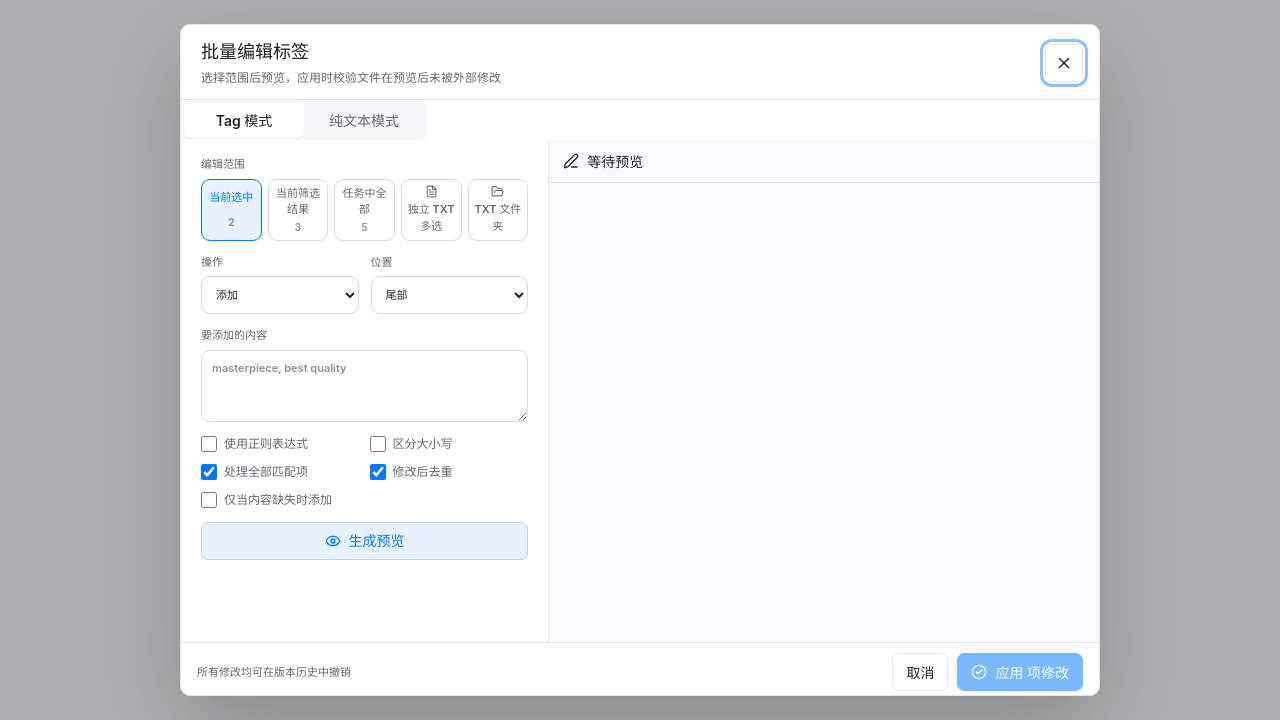
it: BatchEditDialog › highlights the changed segment in previews with colored marks
In the text box labelled "要添加的内容": (365, 386) [201,350,528,422], type "smile"
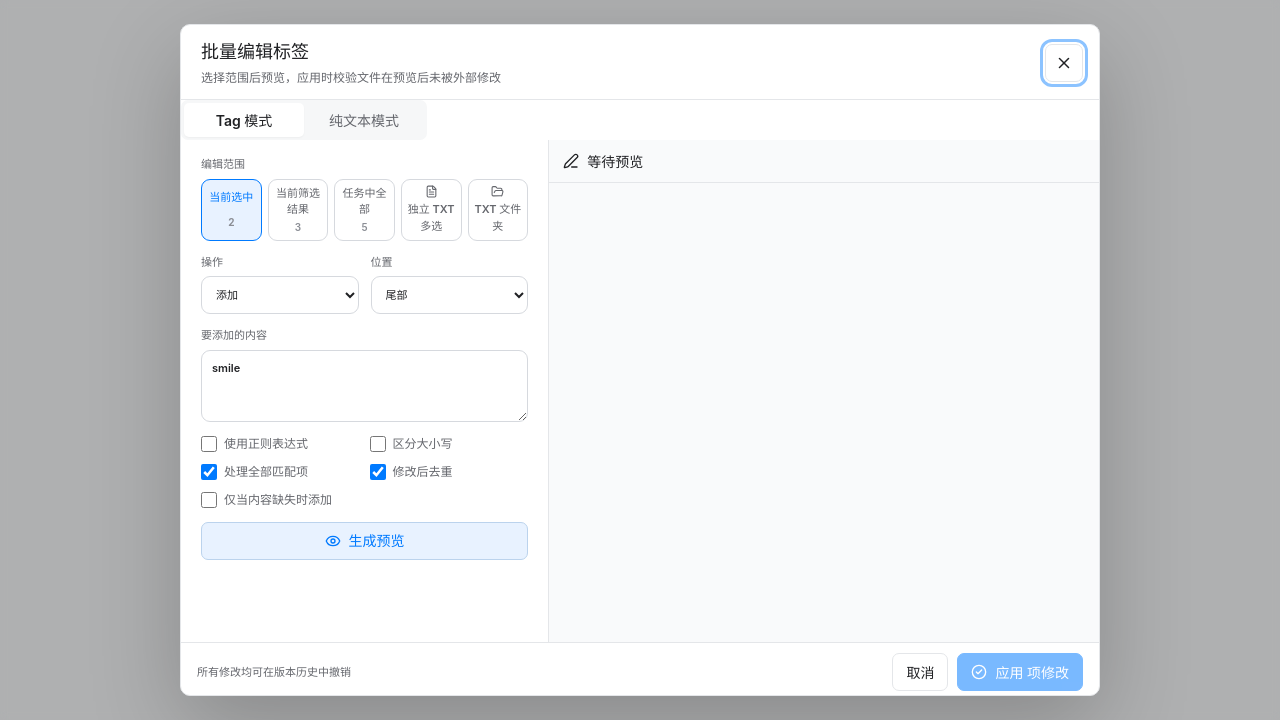
Click the button "生成预览": (365, 540) [201,522,528,560]
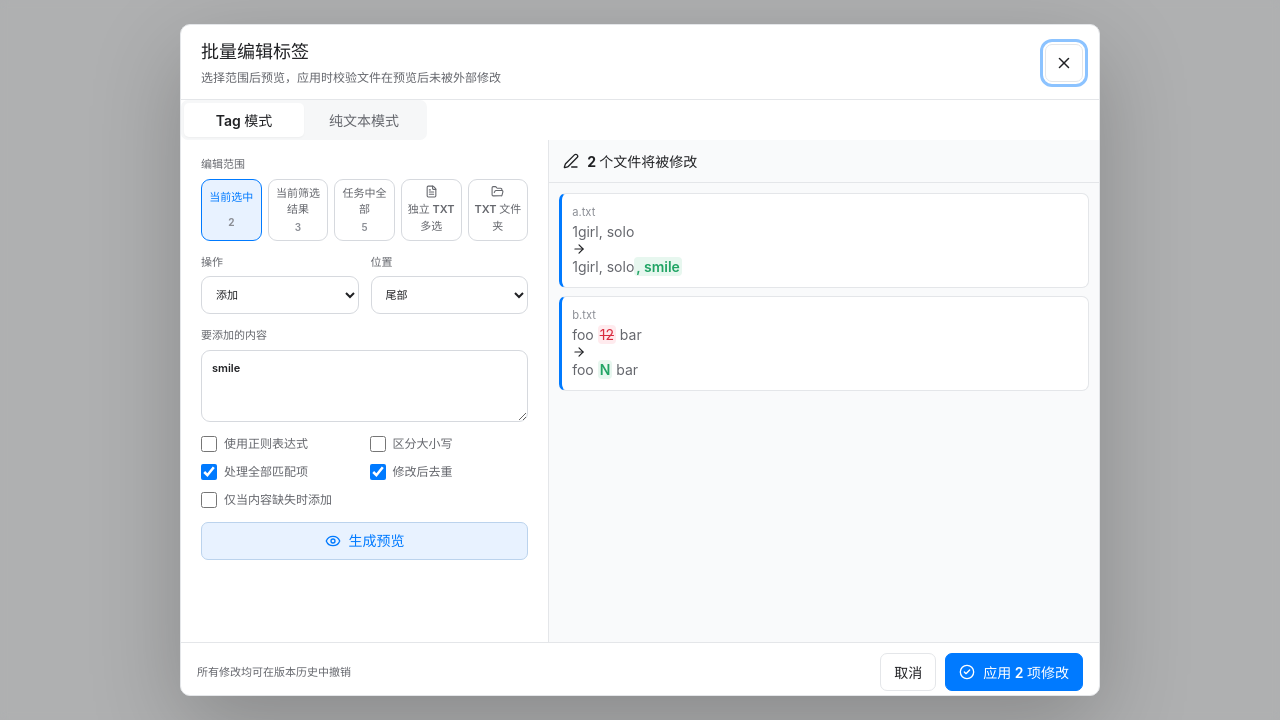
Check: the text ", smile" is shown, box [634,257,682,276]
Check: the text with class "diff-added" reads ", smile", box [636,258,680,275]
Check: the text "12" is shown, box [598,325,616,344]
